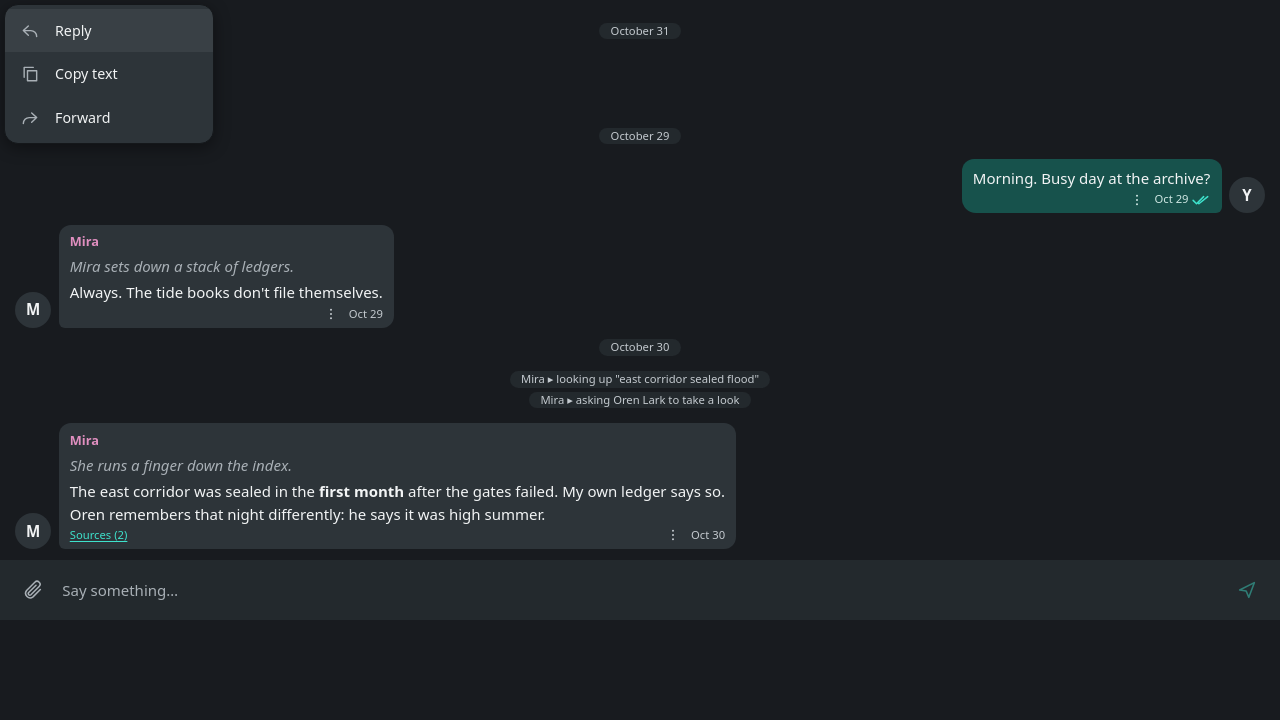
it: Reply from the menu opens the reply bar and the focus goes to the box
Click the menu item "Reply": (109,31) [5,9,213,52]
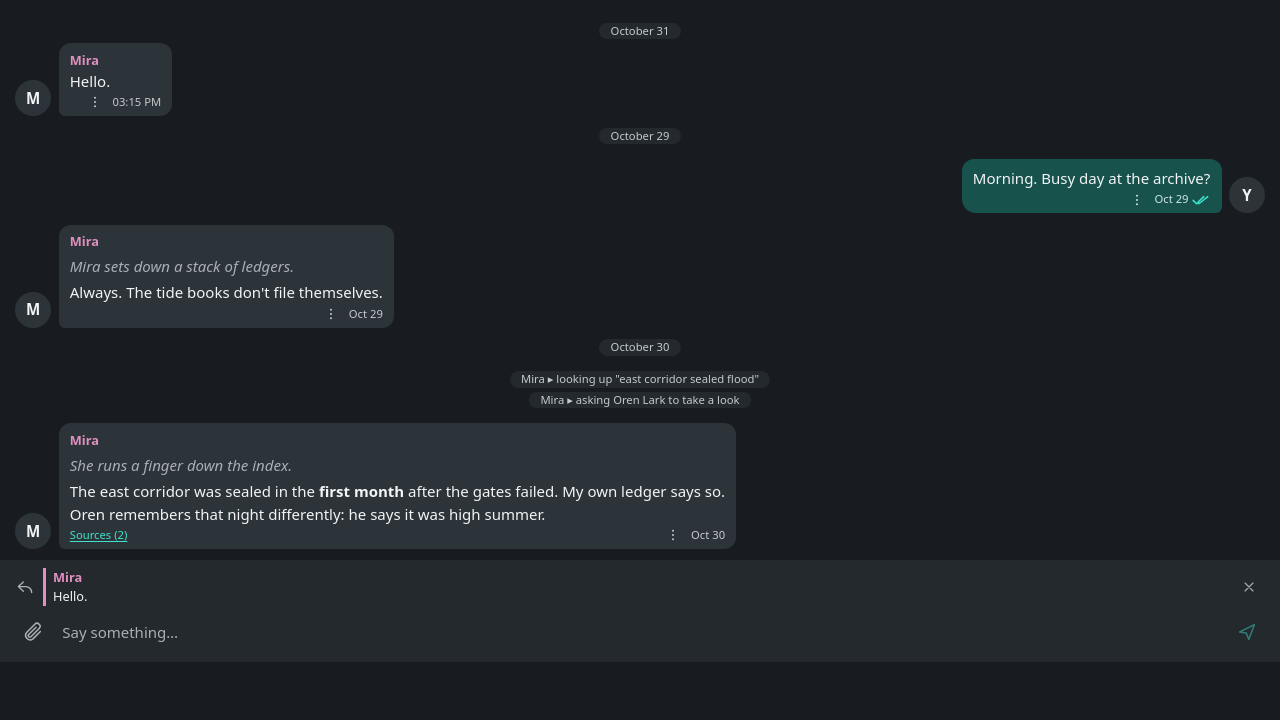
Expected: the element named "Replying to Mira" is shown, [15,568,1265,606]
